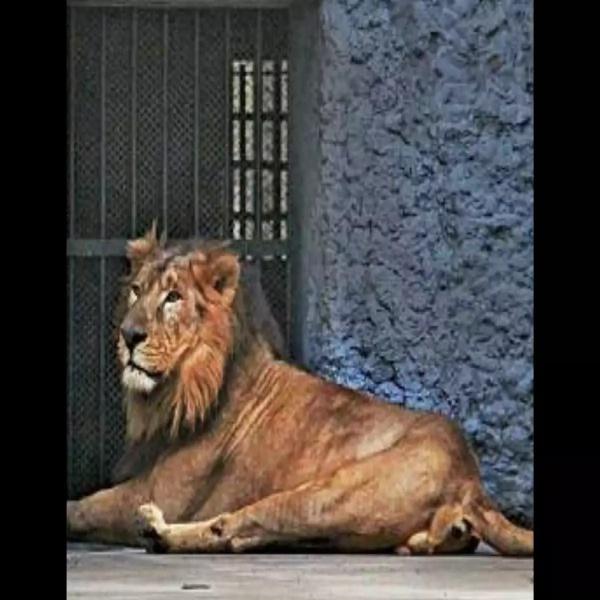Lion: (69, 224, 534, 561)
